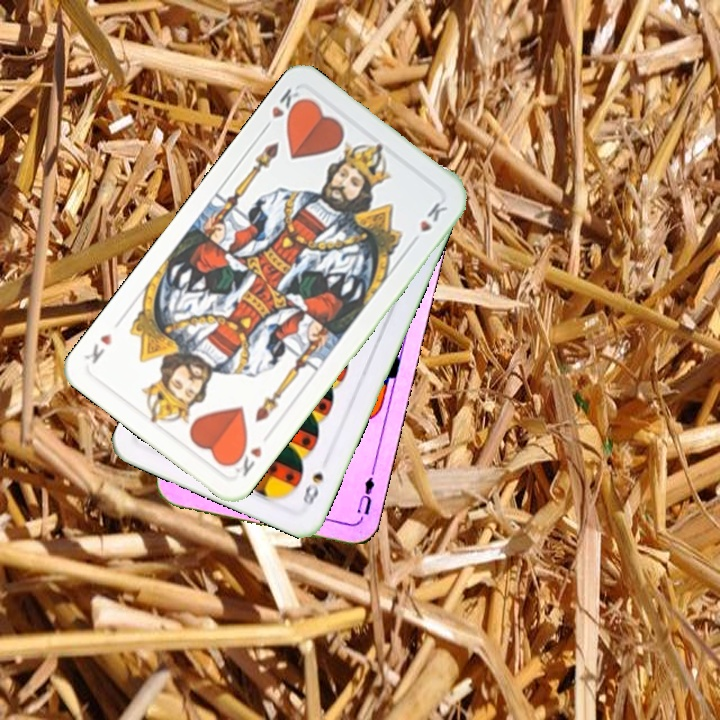EU: (353, 466, 377, 518)
HK: (258, 83, 308, 135), (227, 440, 265, 480)
S8: (298, 468, 326, 510)
